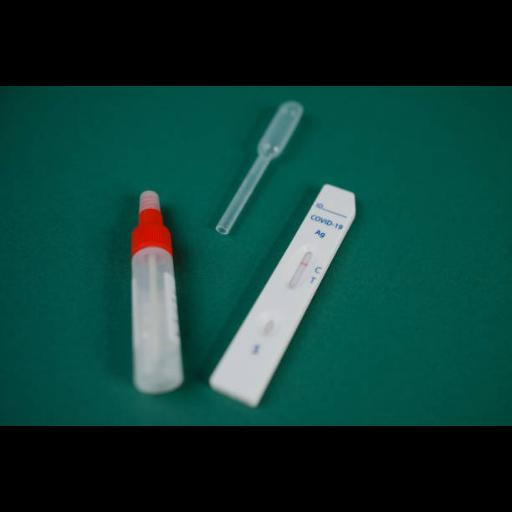Neg: (209, 182, 365, 403)
